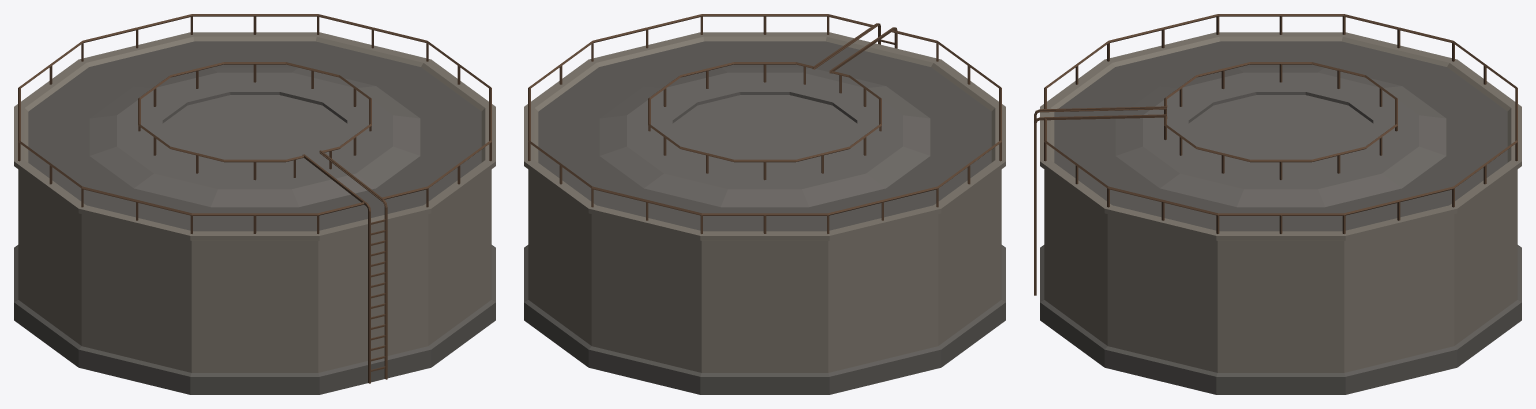
Rendered from SM_Props_Industrial_Tank_04.fbx.
3 renders of one model, left to right at view 1: azimuth 30°, elevation 25°; view 2: azimuth 150°, elevation 25°; view 3: azimuth 270°, elevation 25°, orthographic.
Parts seen in each view (by area): view 1: SM_Props_Industrial_Tank_04; view 2: SM_Props_Industrial_Tank_04; view 3: SM_Props_Industrial_Tank_04.
Part boxes in pixels (x1=…): SM_Props_Industrial_Tank_04: x1=14, y1=14, x2=495, y2=394; SM_Props_Industrial_Tank_04: x1=524, y1=14, x2=1005, y2=394; SM_Props_Industrial_Tank_04: x1=1034, y1=14, x2=1521, y2=394.
Bounding box in the file's own units: 1373 × 573 × 1390.
